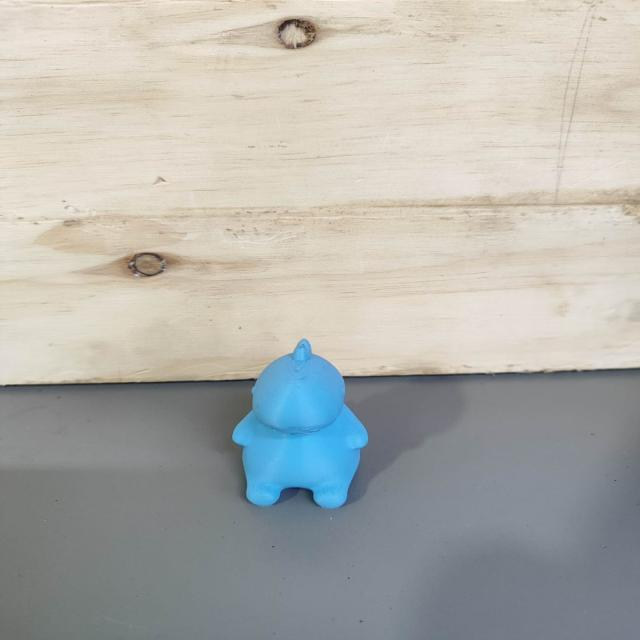DINO: (217, 334, 377, 523)
